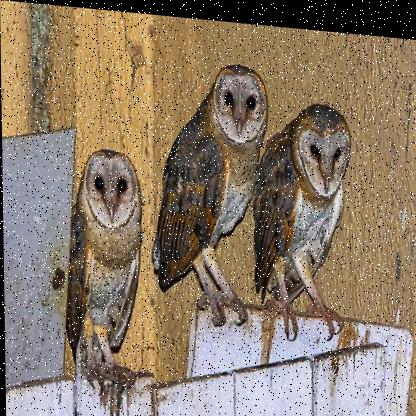Burung: (148, 52, 272, 325), (245, 98, 355, 337), (65, 143, 144, 392)
